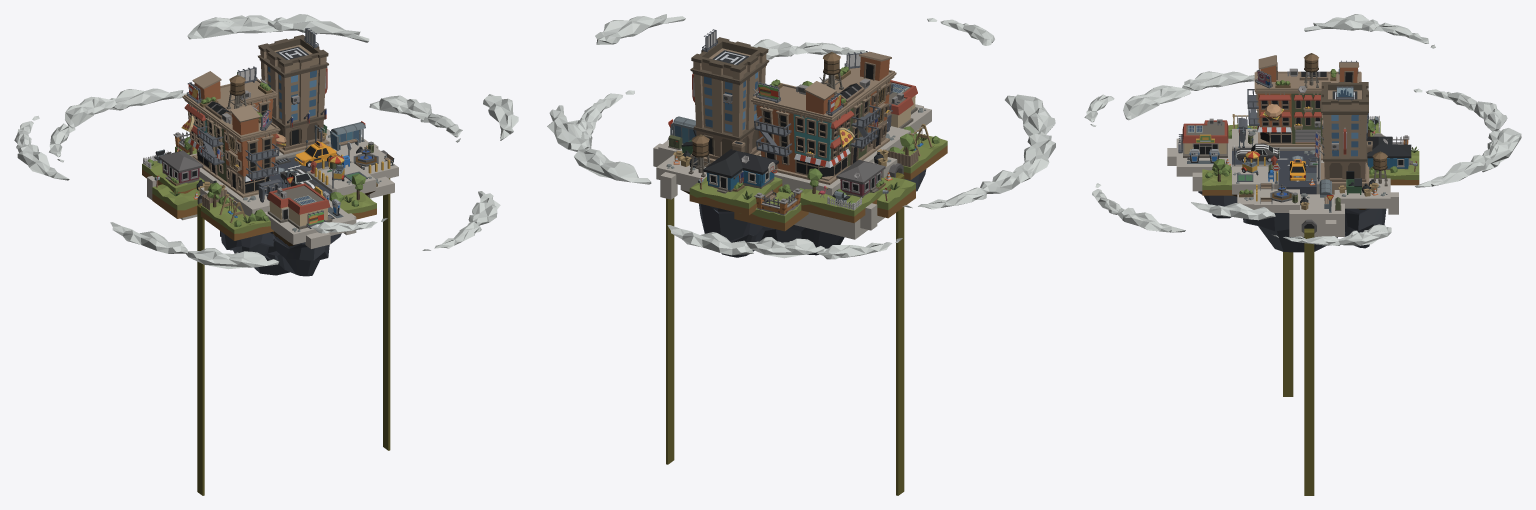
The model's file is POLYGON_Mini_-_City_Pack_5654893b.glb.
3 views of the same model, side by side, from view 1: azimuth 30°, elevation 25°; view 2: azimuth 150°, elevation 25°; view 3: azimuth 270°, elevation 25° (orthographic). The views are drawn at different scales.
Parts seen in each view (by area): view 1: IslandFab_PolygonMiniCity_01_0; view 2: IslandFab_PolygonMiniCity_01_0, IslandFab_PolygonMiniCity_01_Blue_0; view 3: IslandFab_PolygonMiniCity_01_0, IslandFab_PolygonMiniCity_01_Blue_0.
Part boxes in pixels (x1,y1,x2,y2): IslandFab_PolygonMiniCity_01_0: [14, 14, 518, 495]; IslandFab_PolygonMiniCity_01_0: [547, 14, 1055, 495]; IslandFab_PolygonMiniCity_01_Blue_0: [703, 140, 778, 193]; IslandFab_PolygonMiniCity_01_0: [1084, 14, 1521, 495]; IslandFab_PolygonMiniCity_01_Blue_0: [1366, 136, 1412, 169].
Size of the model in its own units: 613 by 563 by 581.
2 materials, 2 textured.
